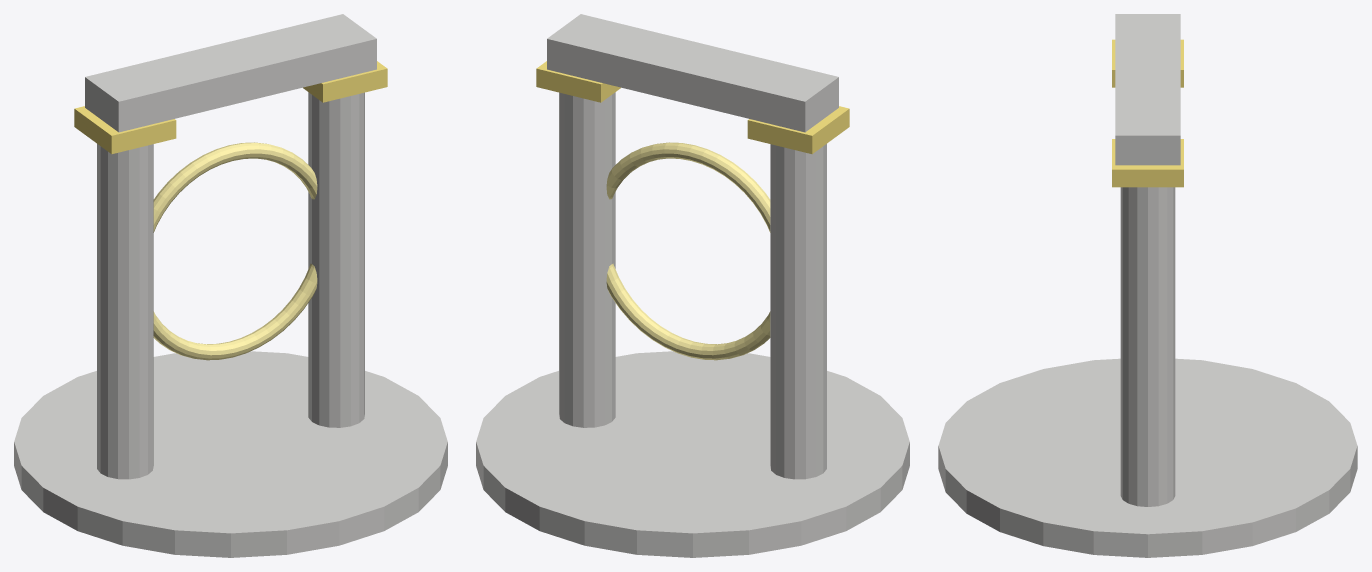
File: Portal_Templo_Cielos.fbx
The picture shows the model from 3 angles, left to right: view 1: azimuth 30°, elevation 25°; view 2: azimuth 150°, elevation 25°; view 3: azimuth 270°, elevation 25°; orthographic projection. The views are drawn at different scales.
Visible parts, largest first — view 1: P5_Base_Marmol, P5_Columna_-1.8, P5_Columna_1.8, P5_Fronton, P5_Halo_Solar, P5_Capitel_-1.8, P5_Capitel_1.8; view 2: P5_Base_Marmol, P5_Columna_-1.8, P5_Columna_1.8, P5_Fronton, P5_Halo_Solar, P5_Capitel_-1.8, P5_Capitel_1.8; view 3: P5_Base_Marmol, P5_Columna_1.8, P5_Fronton, P5_Capitel_1.8.
Part boxes in pixels (bbox=[...]): P5_Base_Marmol: bbox=[14, 351, 447, 557]; P5_Columna_-1.8: bbox=[97, 144, 153, 479]; P5_Columna_1.8: bbox=[308, 92, 364, 427]; P5_Fronton: bbox=[85, 14, 376, 132]; P5_Halo_Solar: bbox=[153, 142, 317, 360]; P5_Capitel_-1.8: bbox=[74, 106, 176, 154]; P5_Capitel_1.8: bbox=[303, 61, 387, 102]; P5_Base_Marmol: bbox=[476, 351, 909, 557]; P5_Columna_-1.8: bbox=[770, 144, 826, 479]; P5_Columna_1.8: bbox=[559, 92, 615, 427]; P5_Fronton: bbox=[547, 14, 838, 132]; P5_Halo_Solar: bbox=[606, 142, 770, 360]; P5_Capitel_-1.8: bbox=[747, 106, 849, 154]; P5_Capitel_1.8: bbox=[536, 61, 620, 102]; P5_Base_Marmol: bbox=[938, 358, 1357, 557]; P5_Columna_1.8: bbox=[1120, 187, 1175, 506]; P5_Fronton: bbox=[1115, 14, 1180, 165]; P5_Capitel_1.8: bbox=[1112, 139, 1183, 187].
Size of the model in its own units: 640 by 665 by 640.
